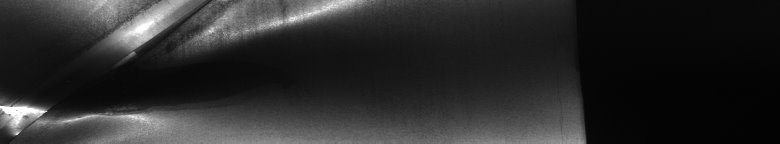ke: (99, 0, 362, 144)
